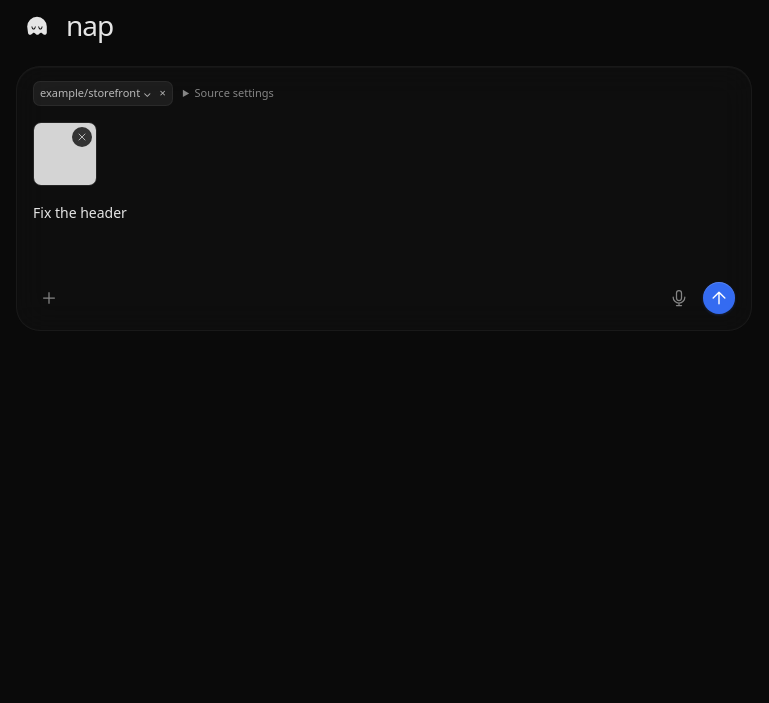
Scenario: can send a template after editing and removing its repository settings
Expected: the button named "Remove repository" is shown, [160, 85, 166, 102]
Click the heading "Source settings": (228, 93) [183, 85, 274, 102]
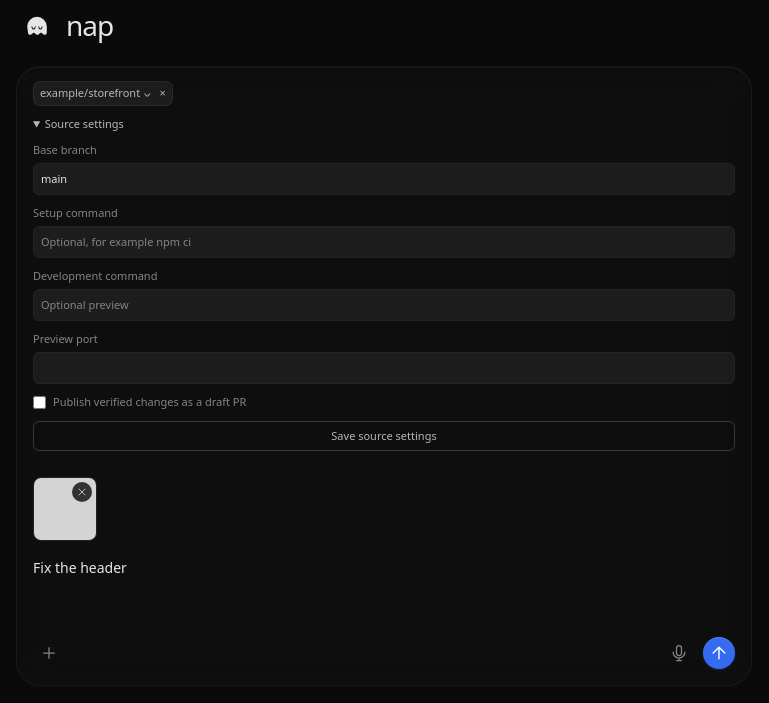
Replace the text in the field labelled "Base branch" with "other": (384, 179) [33, 162, 735, 195]
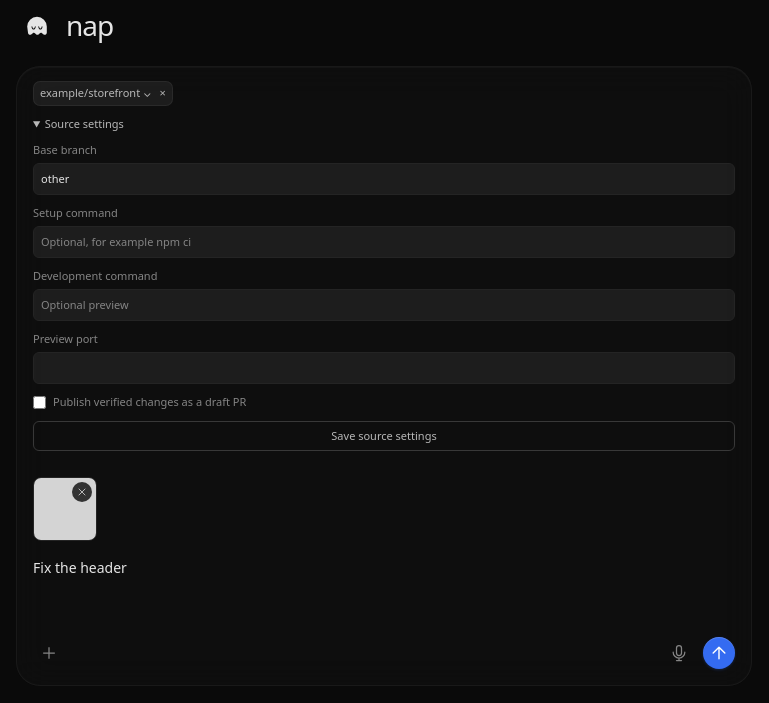
Click the button named "Remove repository": (163, 93) [160, 85, 166, 102]
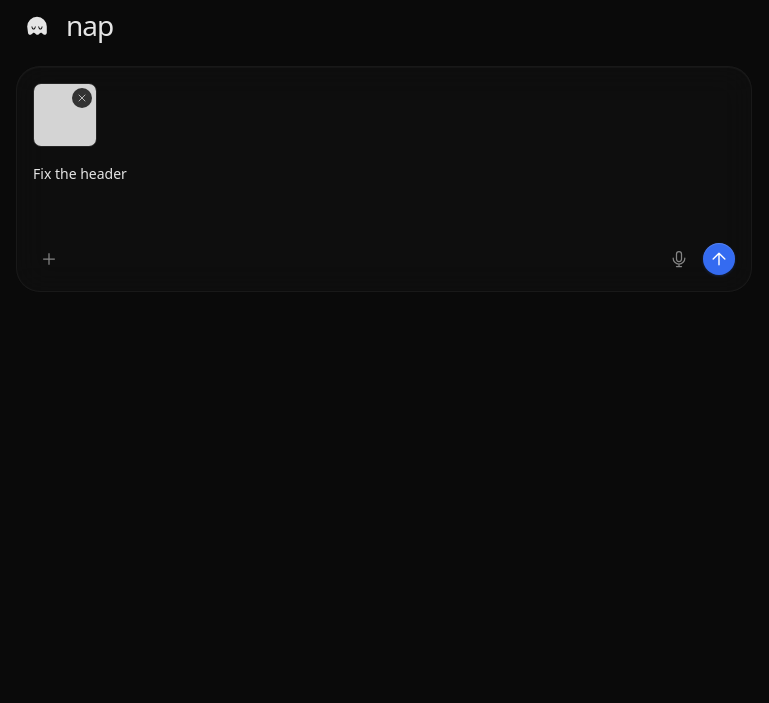
Click the button named "Send": (719, 259) [703, 243, 735, 275]
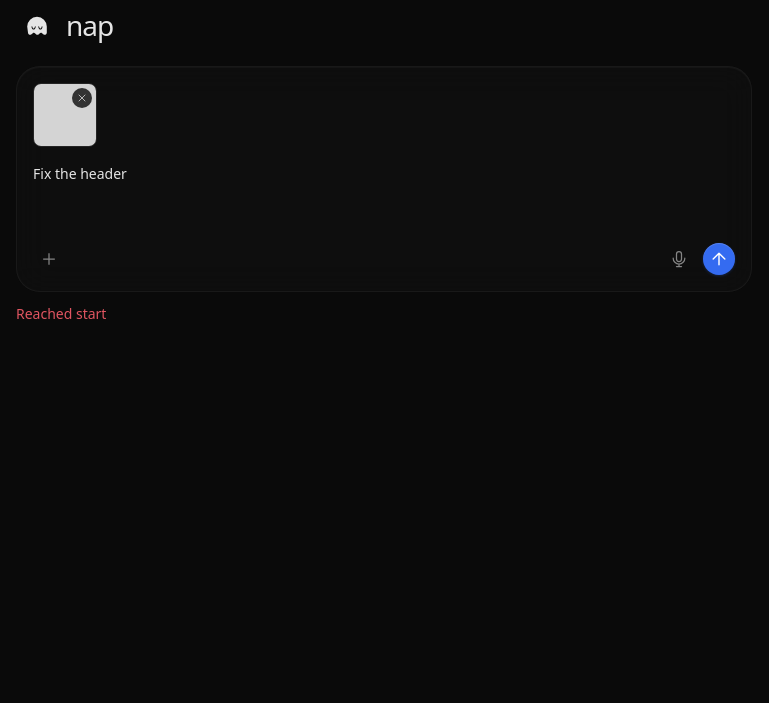
Result: the text "Reached start" is shown at [16, 304, 106, 323]
